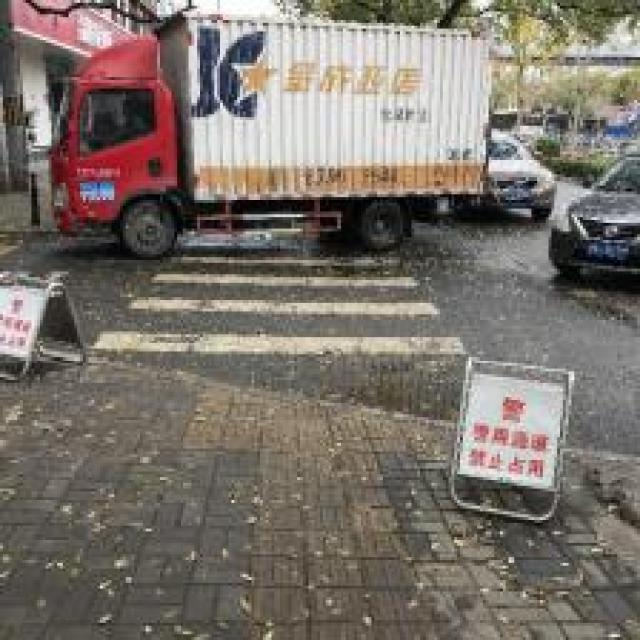crosswalk: (93, 213, 472, 384)
